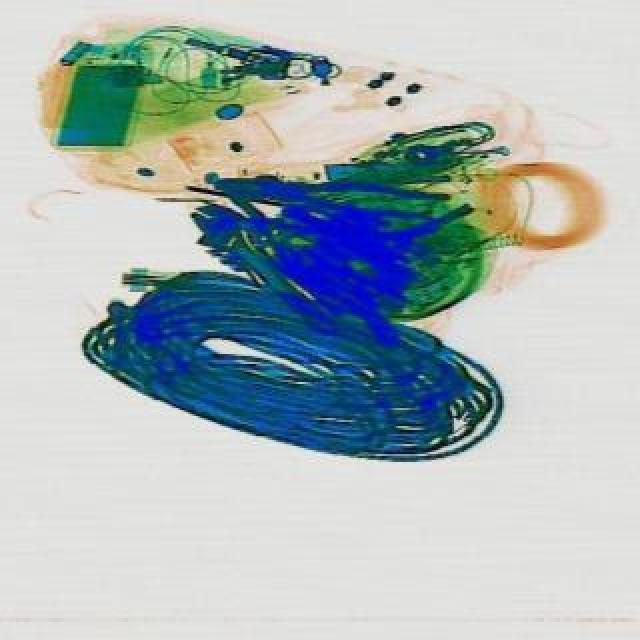scissors: (174, 192, 348, 354)
wrench: (210, 168, 450, 230)
